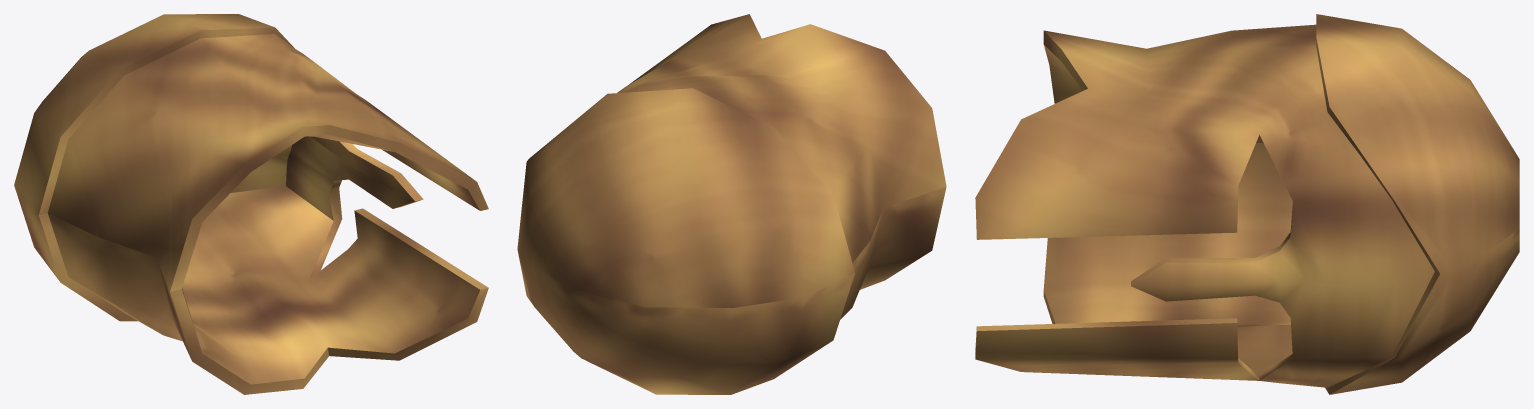
Rendered from HCHelmBronze.fbx.
3 views of the same model, side by side, from view 1: azimuth 30°, elevation 25°; view 2: azimuth 150°, elevation 25°; view 3: azimuth 270°, elevation 25° (orthographic). The views are drawn at different scales.
Visible parts, largest first — view 1: Helm; view 2: Helm; view 3: Helm.
Boxes of the visible parts, x1,y1,x2,y2 form: Helm: [14, 14, 488, 394]; Helm: [517, 14, 946, 394]; Helm: [975, 14, 1519, 394].
Size of the model in its own units: 0.2202 by 0.1503 by 0.1651.
